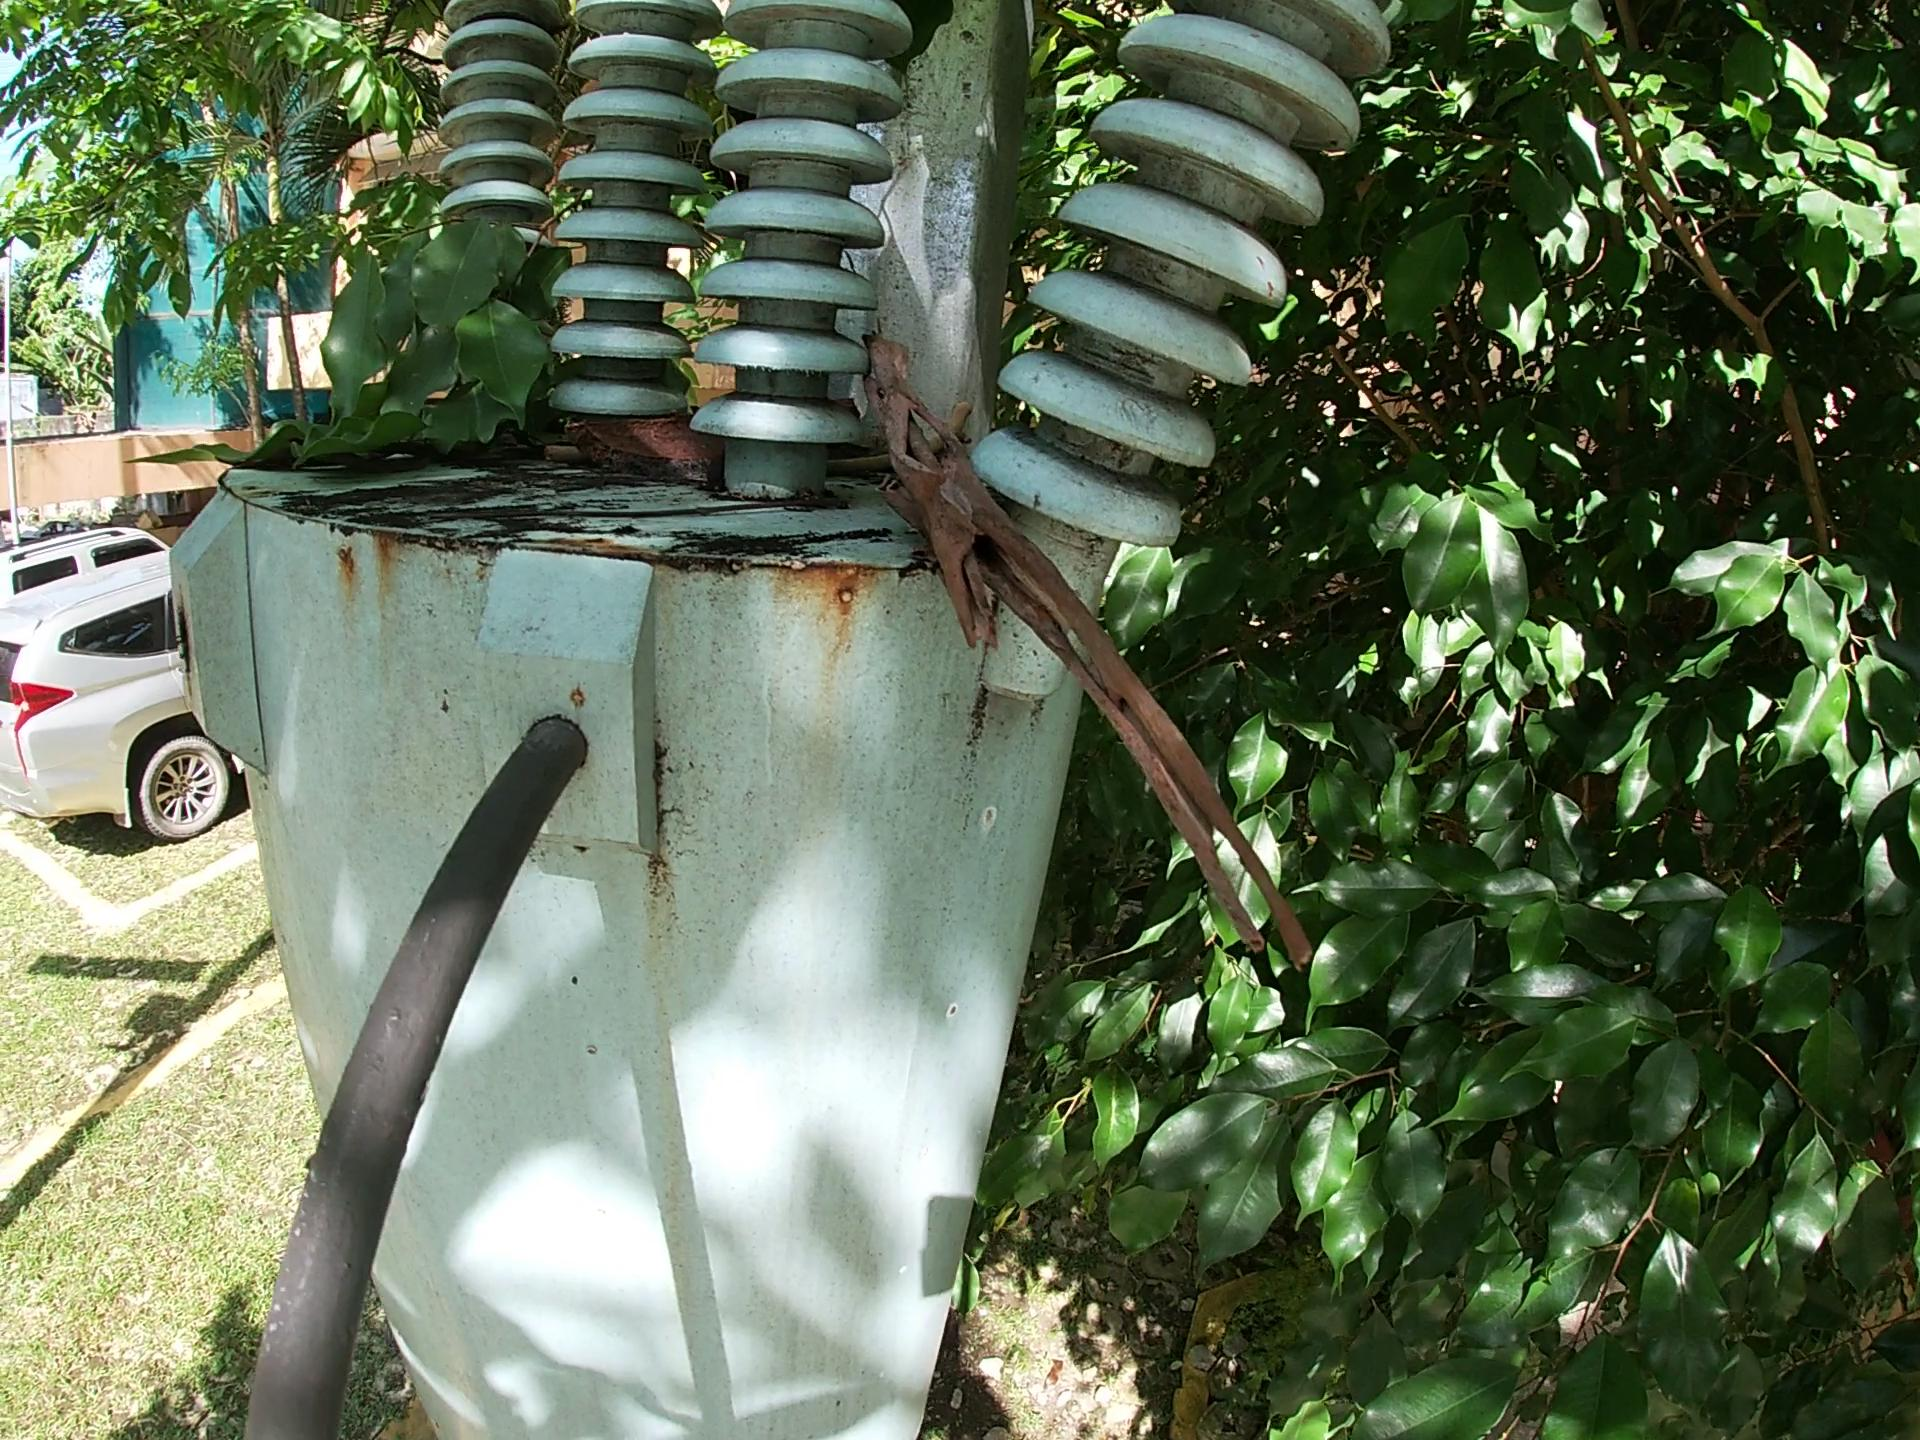branch with leaves: (113, 201, 609, 492)
mahogany fruit: (543, 396, 759, 466)
tree branch: (859, 309, 1342, 980), (494, 469, 816, 525), (838, 398, 986, 455), (540, 442, 581, 464)
